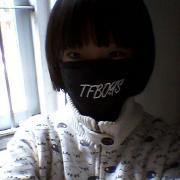OK: (57, 44, 129, 116)
